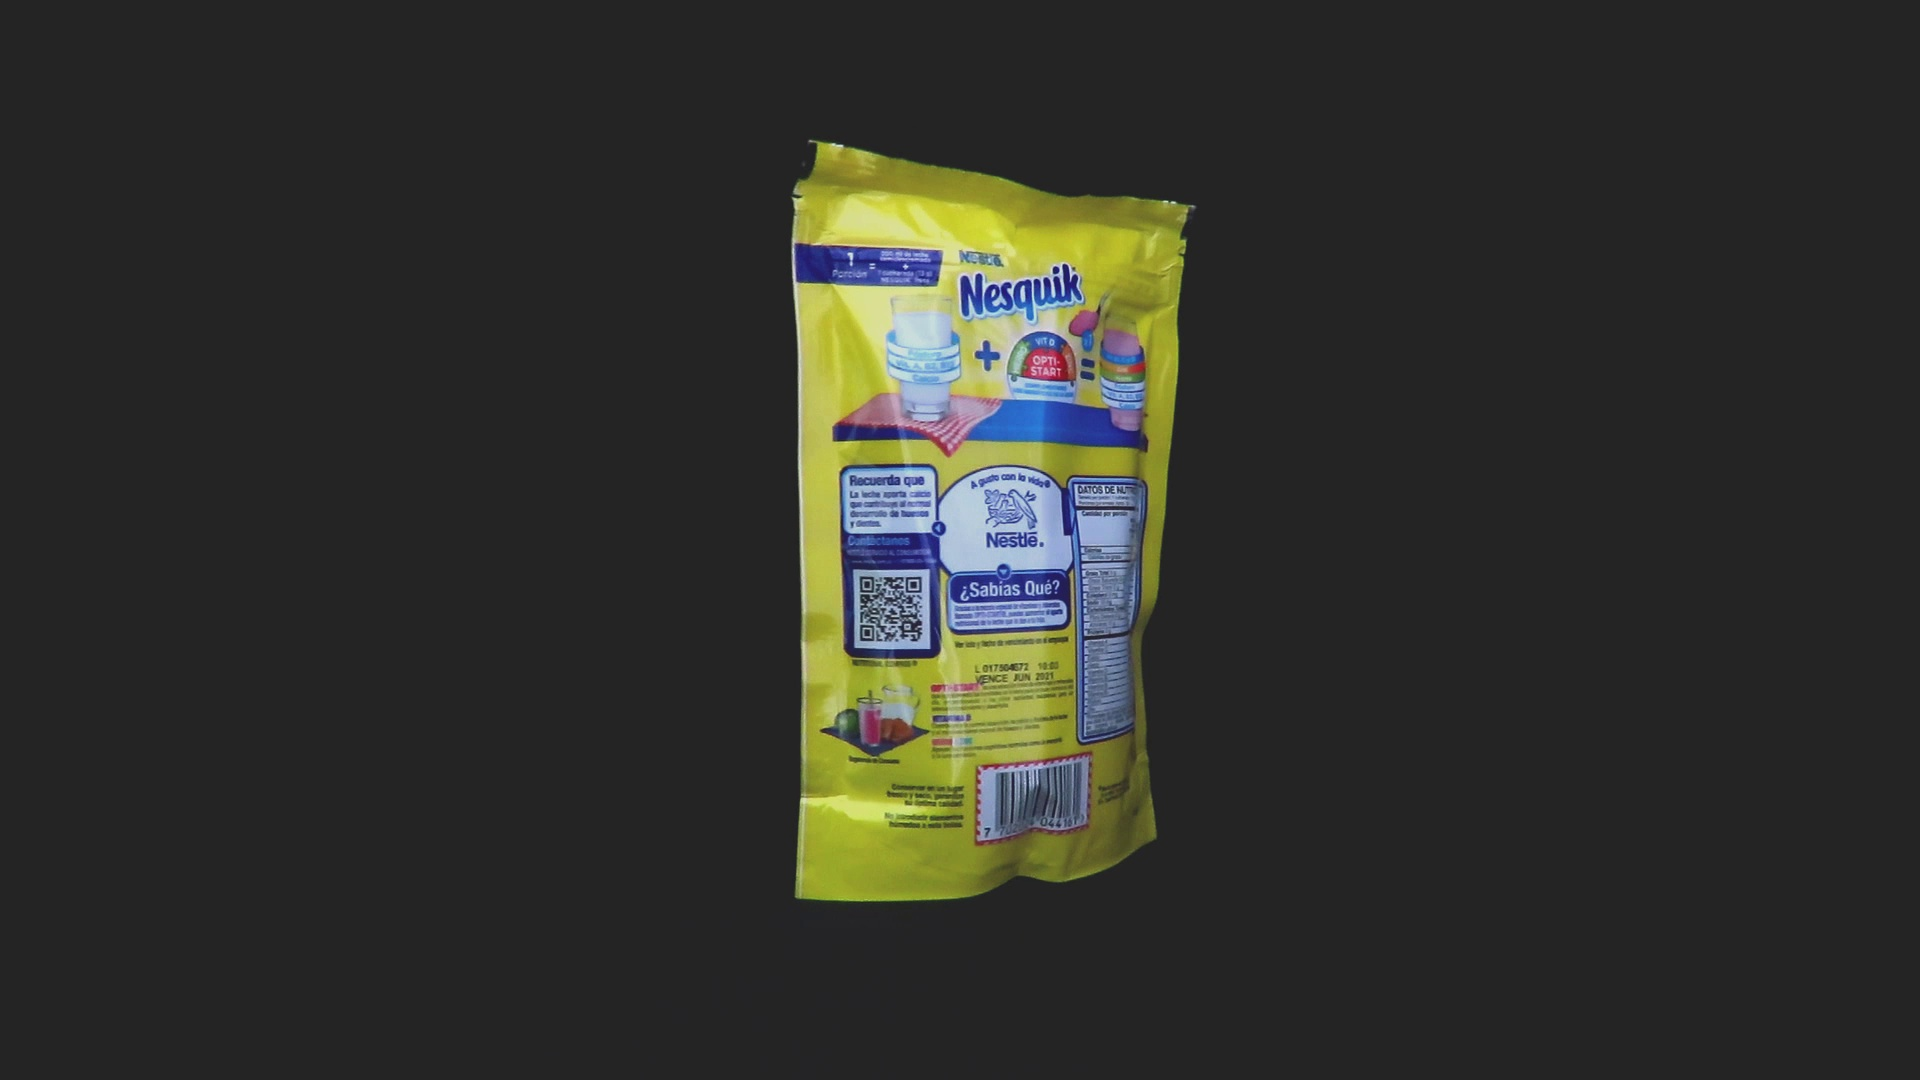COL0170305DYP20000: (786, 135, 1203, 909)
